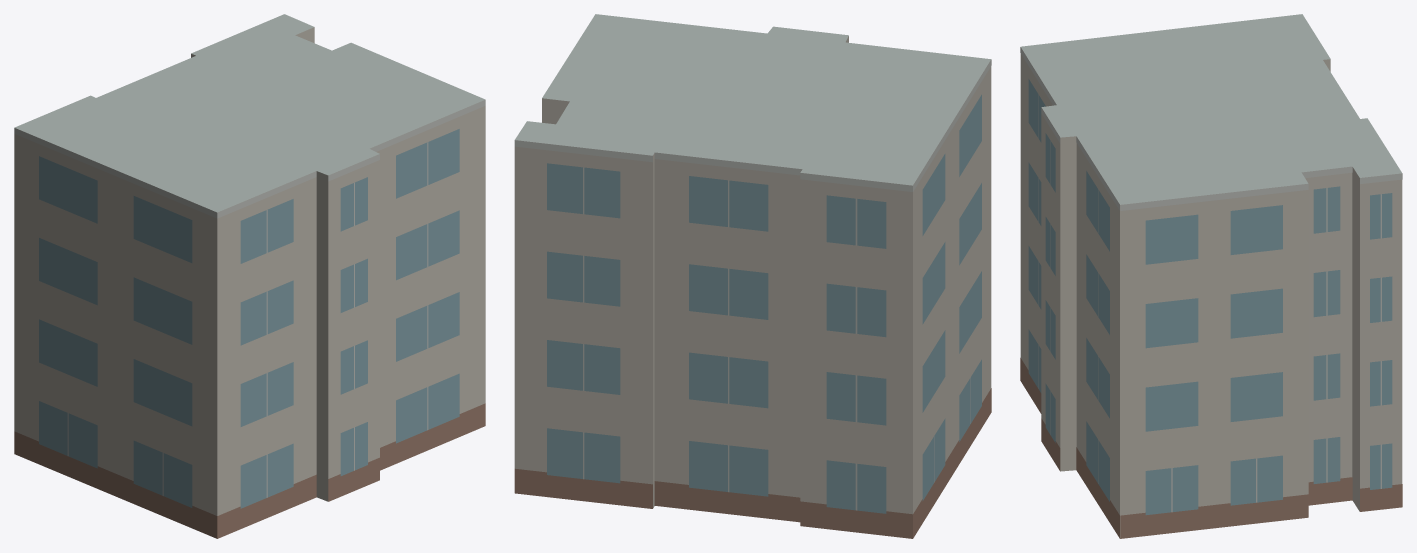
File: survey-upis-32704931.glb
3 renders of one model, left to right at view 1: azimuth 30°, elevation 25°; view 2: azimuth 150°, elevation 25°; view 3: azimuth 270°, elevation 25°, orthographic. The views are drawn at different scales.
Visible parts, largest first — view 1: survey-upis-32704931.tmp; view 2: survey-upis-32704931.tmp; view 3: survey-upis-32704931.tmp.
Part boxes in pixels (x1,y1,x2,y2): survey-upis-32704931.tmp: (14,14,485,538); survey-upis-32704931.tmp: (514,14,991,538); survey-upis-32704931.tmp: (1020,14,1402,538).
Size of the model in its own units: 16.19 by 13.2 by 13.7.
